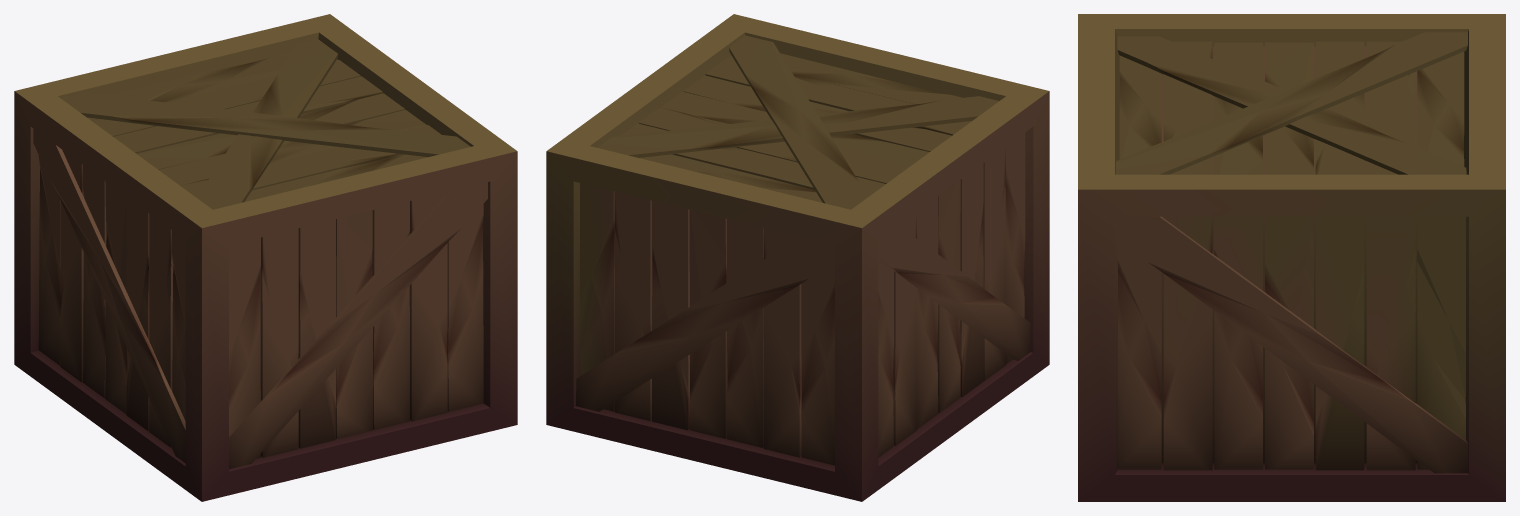
The model's file is SmallCrate.fbx.
3 views of the same model, side by side, from view 1: azimuth 30°, elevation 25°; view 2: azimuth 150°, elevation 25°; view 3: azimuth 270°, elevation 25° (orthographic). The views are drawn at different scales.
Visible parts, largest first — view 1: pCube81; view 2: pCube81; view 3: pCube81.
Part boxes in pixels (x1,y1,x2,y2): pCube81: (14, 14, 517, 501); pCube81: (546, 14, 1049, 501); pCube81: (1078, 14, 1505, 501).
Size of the model in its own units: 3.5 by 2.9 by 3.6.
